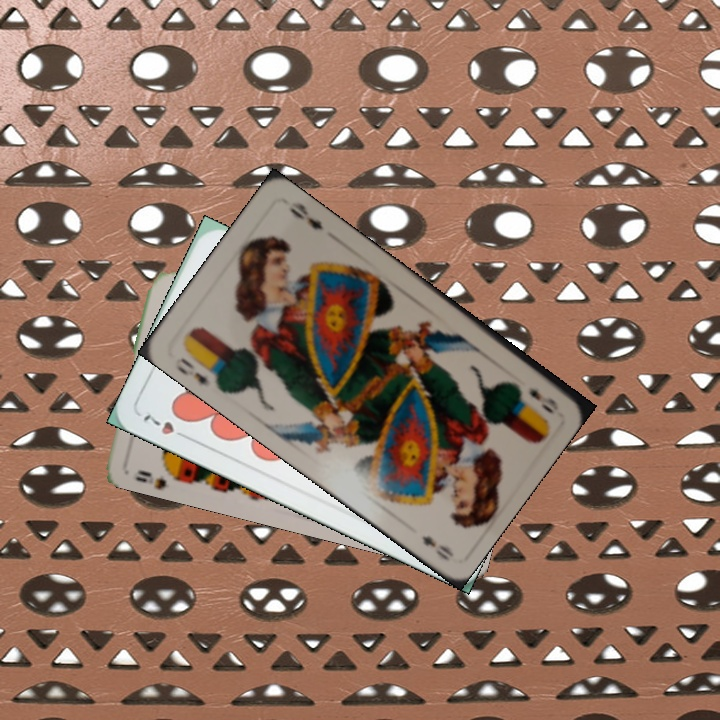EO: (174, 350, 221, 389), (525, 384, 561, 416)
H7: (139, 410, 193, 442)
S9: (134, 462, 184, 484)
